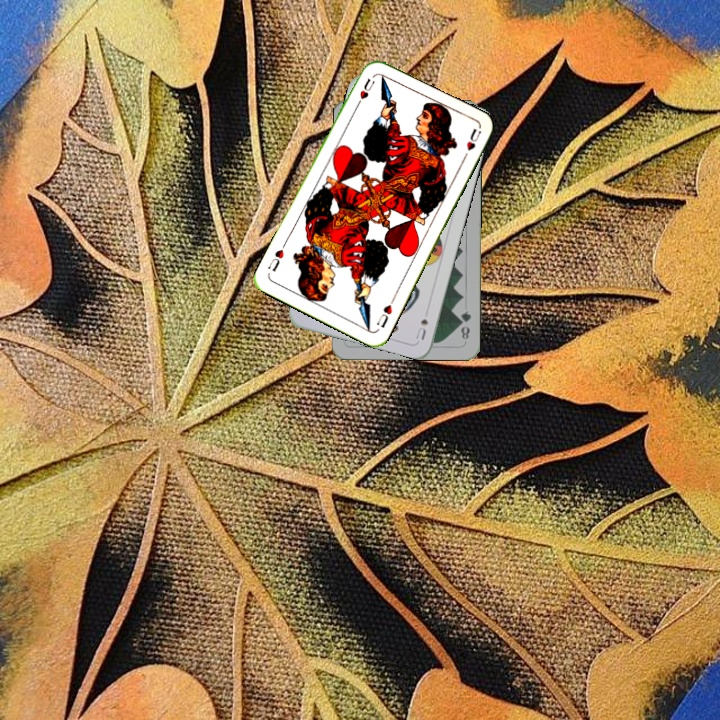G8: (456, 307, 474, 342)
HU: (372, 294, 397, 330), (356, 74, 377, 102)
SU: (412, 315, 431, 342)
